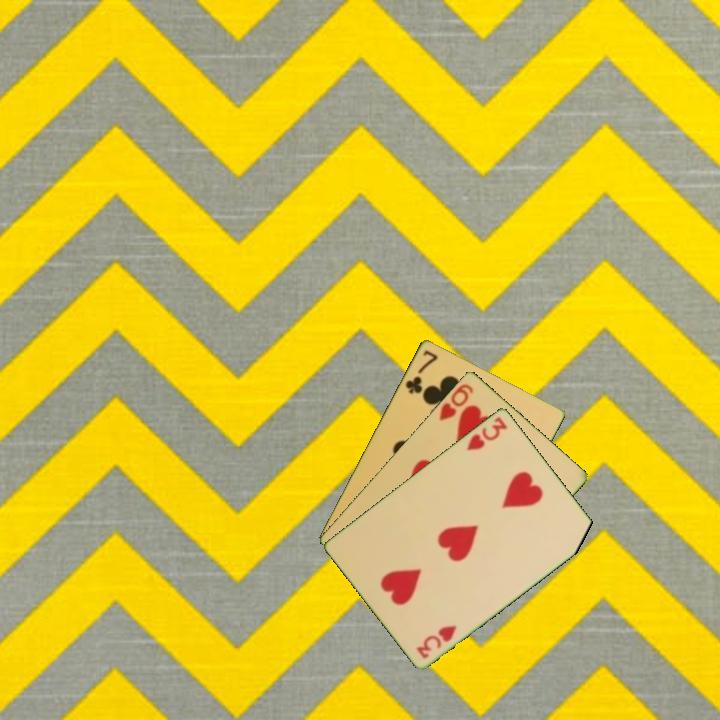3h: (412, 621, 460, 661), (463, 413, 510, 453)
6h: (435, 380, 476, 423)
7c: (401, 346, 441, 397)
